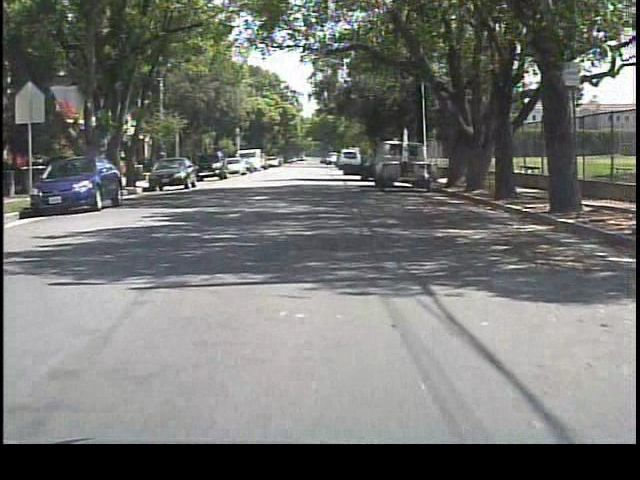person: (359, 156, 375, 184)
